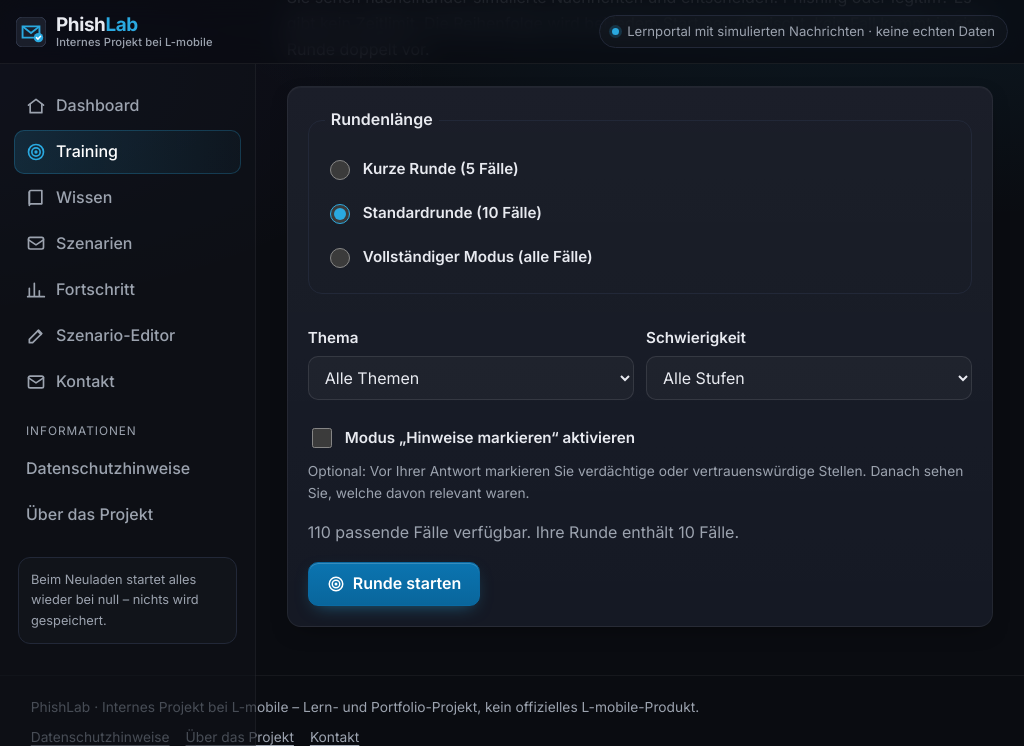
Scenario: Vertikaler Ablauf › Abbruch einer Runde mit Bestätigung
(page scrolled)
Click the button "Runde starten": (394, 584) [308,562,480,606]
(page scrolled)
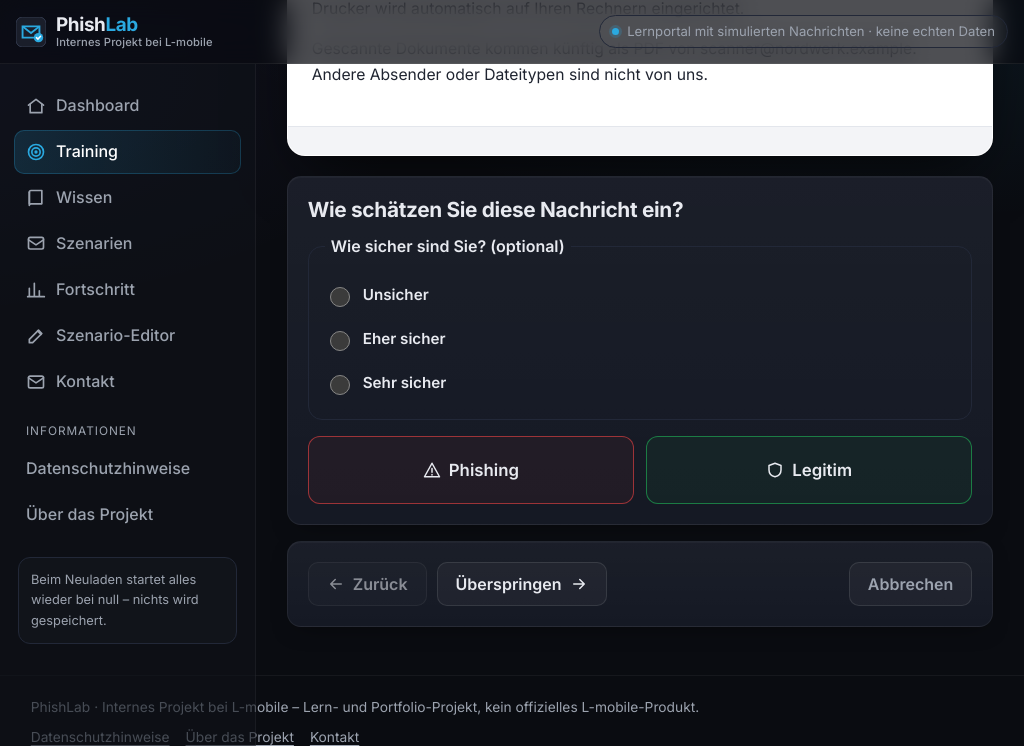
Click the button "Abbrechen": (911, 584) [849,562,972,606]
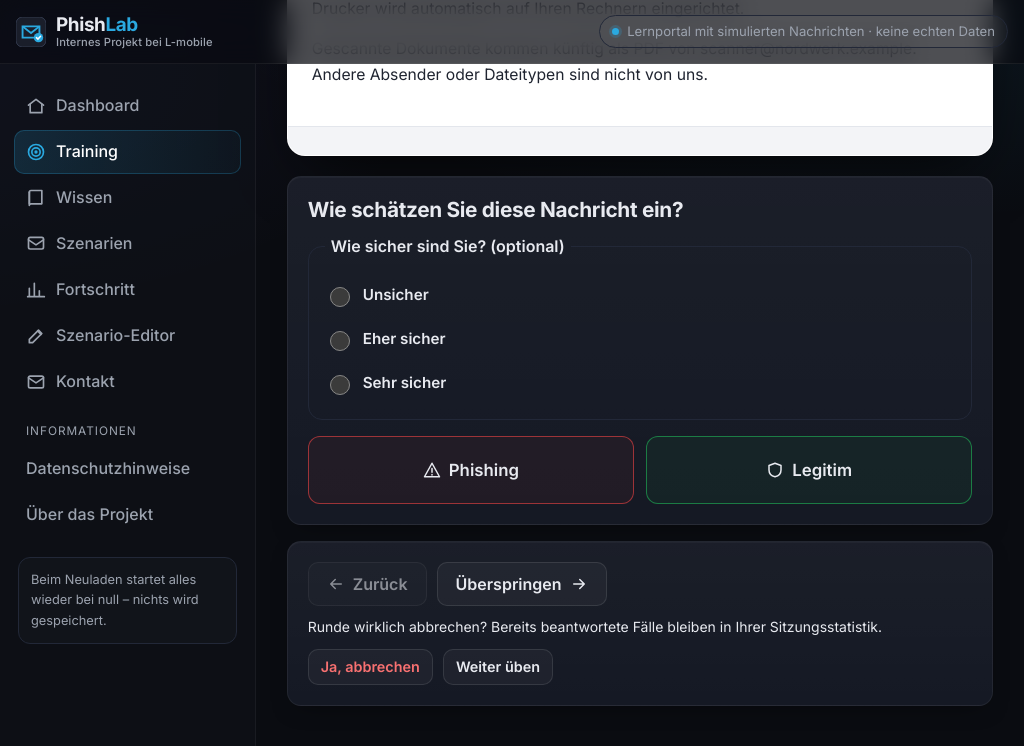
Click the button "Ja, abbrechen": (370, 667) [308,649,433,685]
(page scrolled)
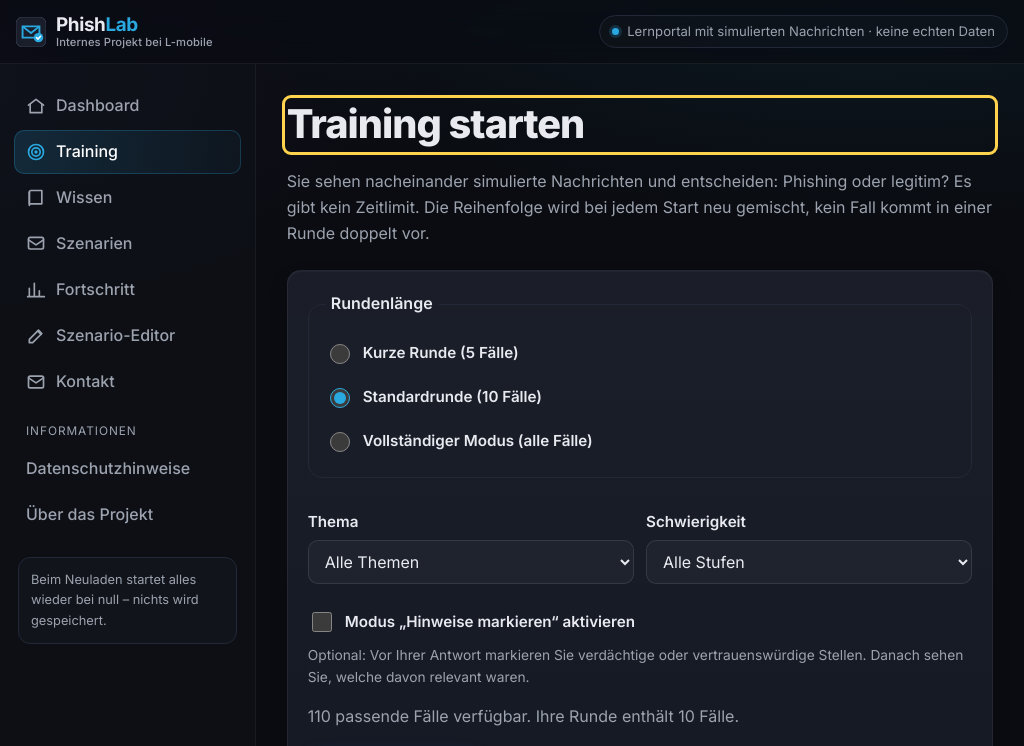
Now the heading "Training starten" is shown, box [287,100,584,148]
